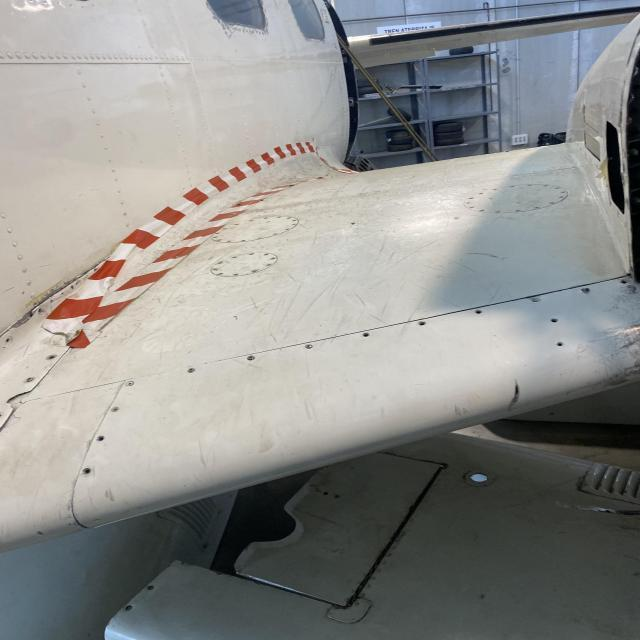Crack: (42, 266, 92, 302), (6, 300, 44, 334), (4, 391, 40, 414)
Missing_Fastener: (360, 331, 370, 338), (83, 468, 91, 476), (46, 354, 56, 360), (474, 309, 484, 315), (554, 341, 565, 346), (96, 436, 105, 442), (417, 321, 427, 326), (550, 318, 559, 323), (4, 337, 10, 343), (622, 280, 628, 284)
